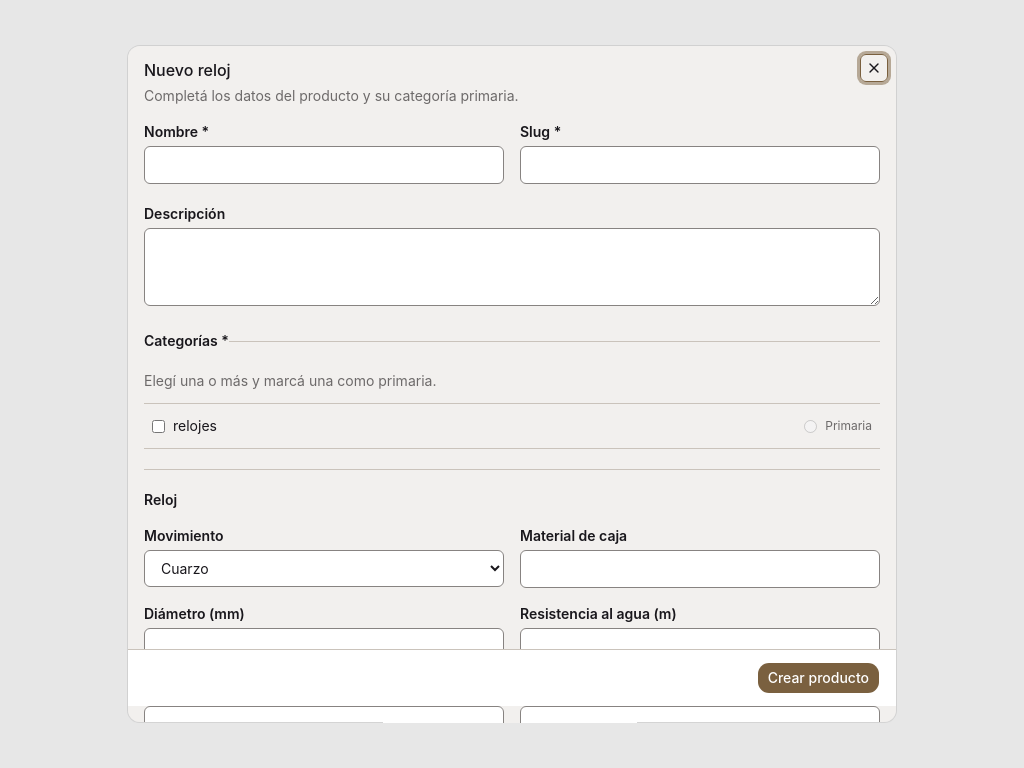
Scenario: RN-SER · un reloj sin elegir si lleva serie no se puede guardar (WP-E05a) › no envía el producto si no se elige 'Requiere número de serie'
Type "Submariner" into the field labelled "Nombre *" at [324, 165], box [144,146,504,184]
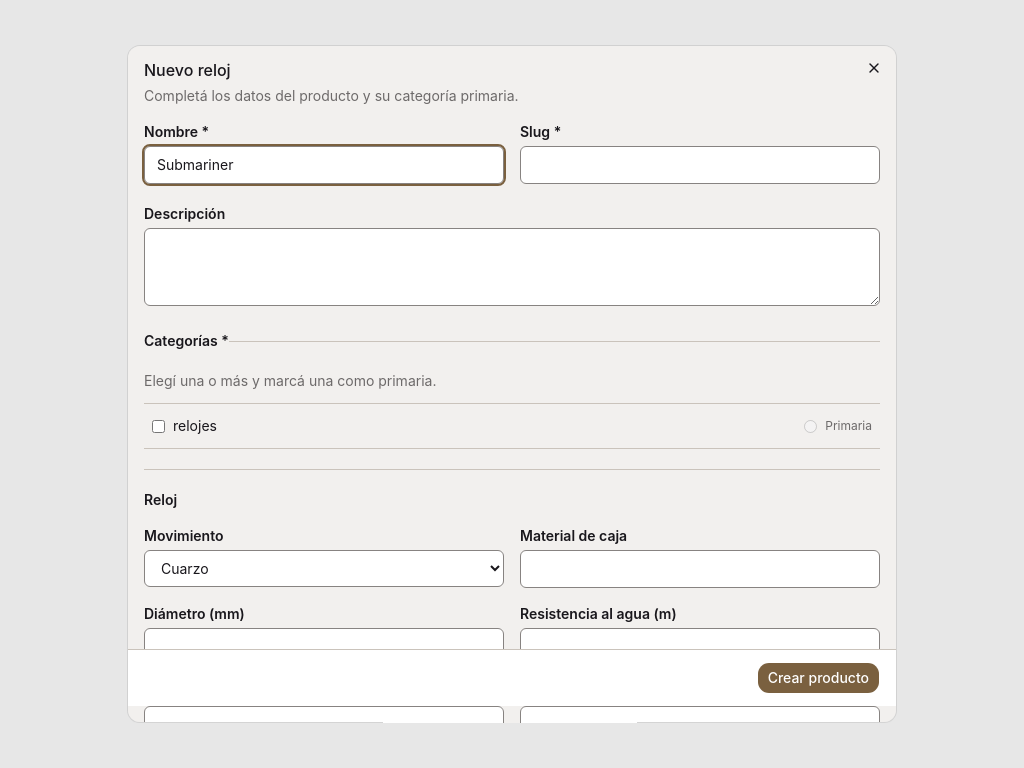
Type "submariner" into the field labelled "Slug *" at [700, 165], box [520,146,880,184]
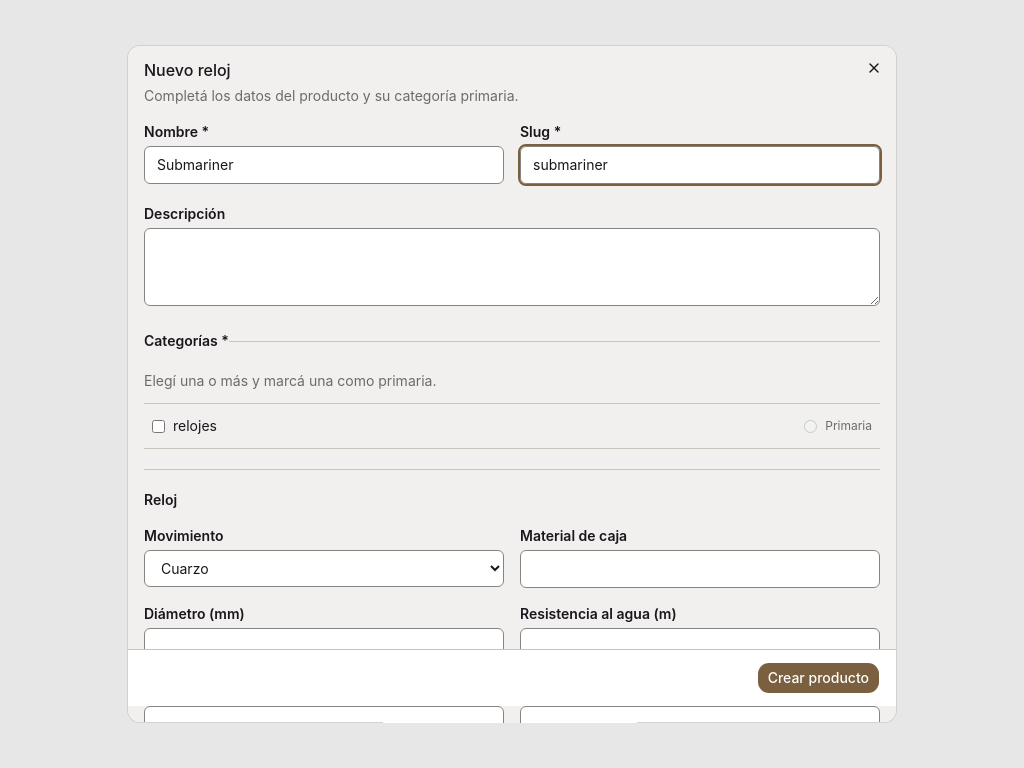
Click the checkbox labelled "relojes" at [158, 426], box [152,420,165,433]
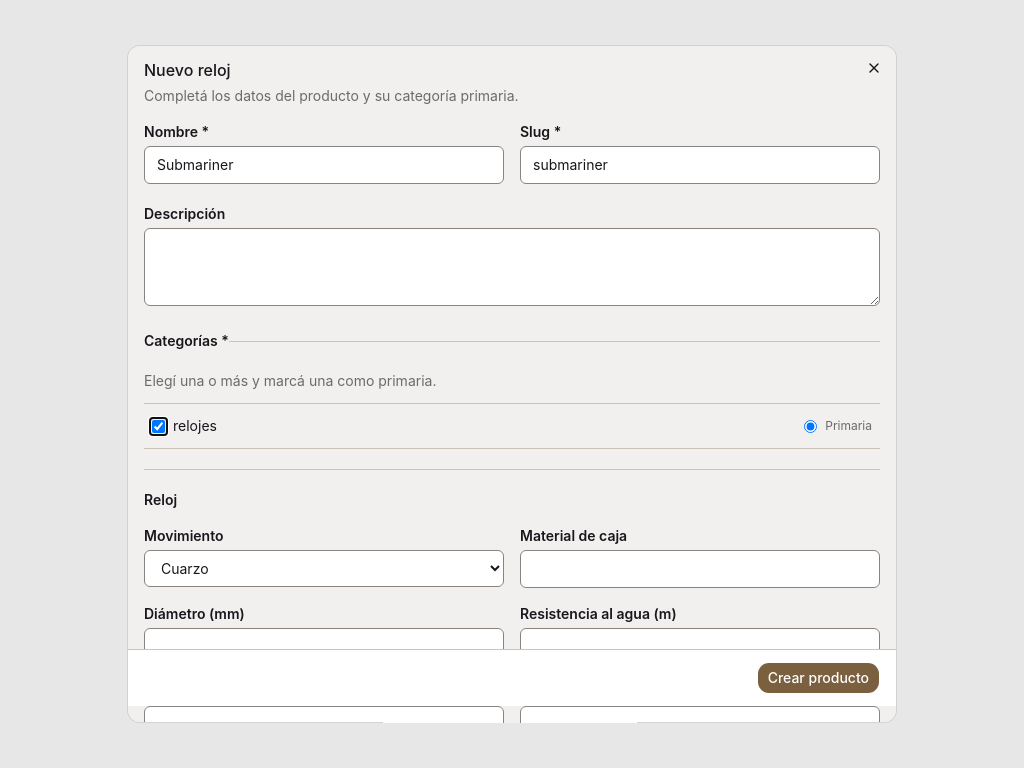
Click the button "Crear producto" at [818, 678], box [757,662,880,694]
(page scrolled)
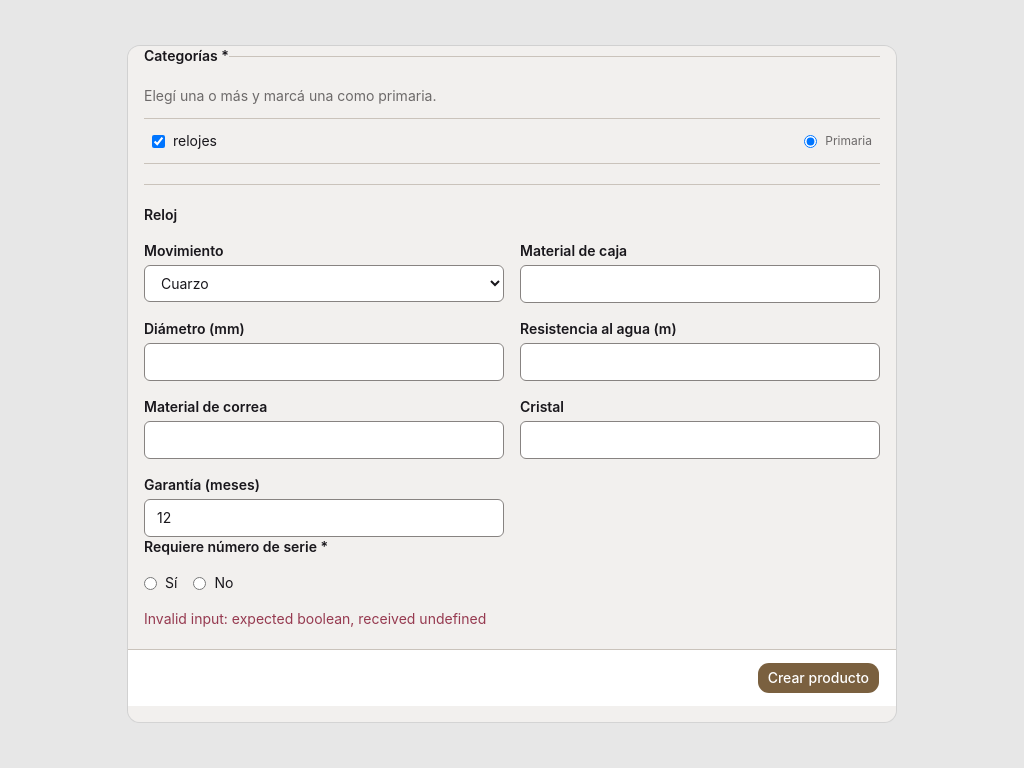
Check: the message "Invalid input: expected boolean, received undefined" is shown, box [144,610,486,627]
Check: the radio button labelled "Sí" is not checked, box [144,577,157,590]
Check: the radio button labelled "No" is not checked, box [193,577,206,590]
